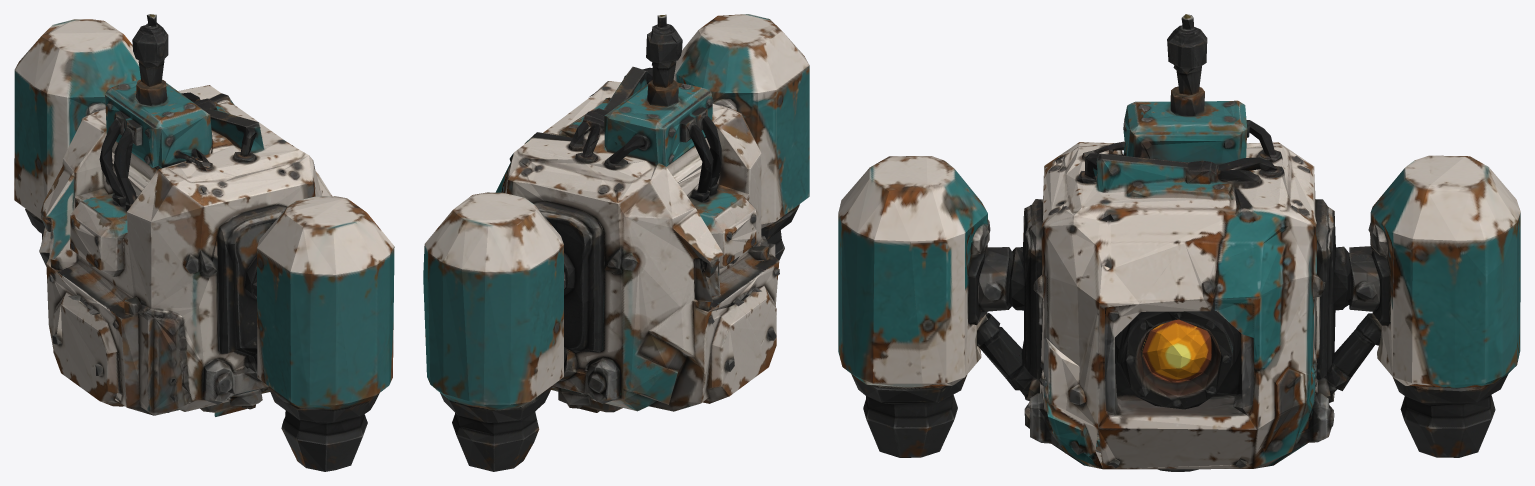
The model's file is SM_DroneBase.fbx.
The picture shows the model from 3 angles, left to right: view 1: azimuth 30°, elevation 25°; view 2: azimuth 150°, elevation 25°; view 3: azimuth 270°, elevation 25°; orthographic projection. The views are drawn at different scales.
Visible parts, largest first — view 1: SM_DroneBase; view 2: SM_DroneBase; view 3: SM_DroneBase.
Part boxes in pixels (left/top/right/bottom): SM_DroneBase: left=14, top=14, right=394, bottom=471; SM_DroneBase: left=423, top=14, right=809, bottom=471; SM_DroneBase: left=838, top=14, right=1520, bottom=471.
Bounding box in the file's own units: 29.66 × 47.42 × 70.
1 material, 1 textured.
